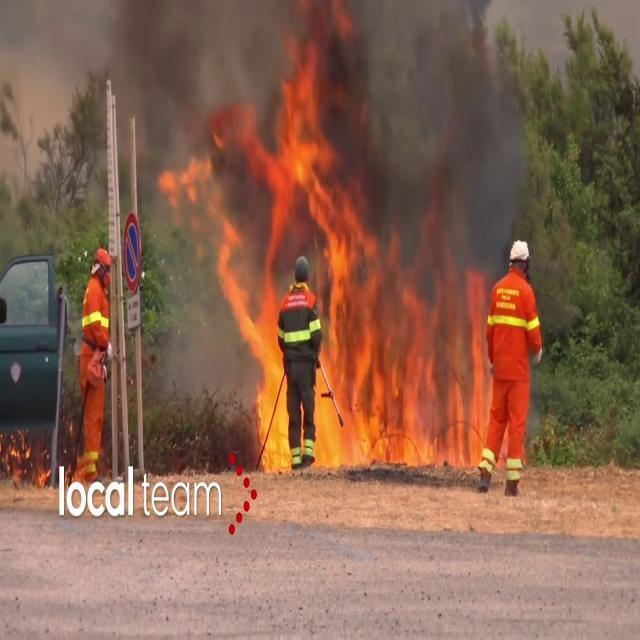Fire: (230, 72, 532, 476)
Smoke: (1, 1, 261, 258), (333, 0, 521, 280)
